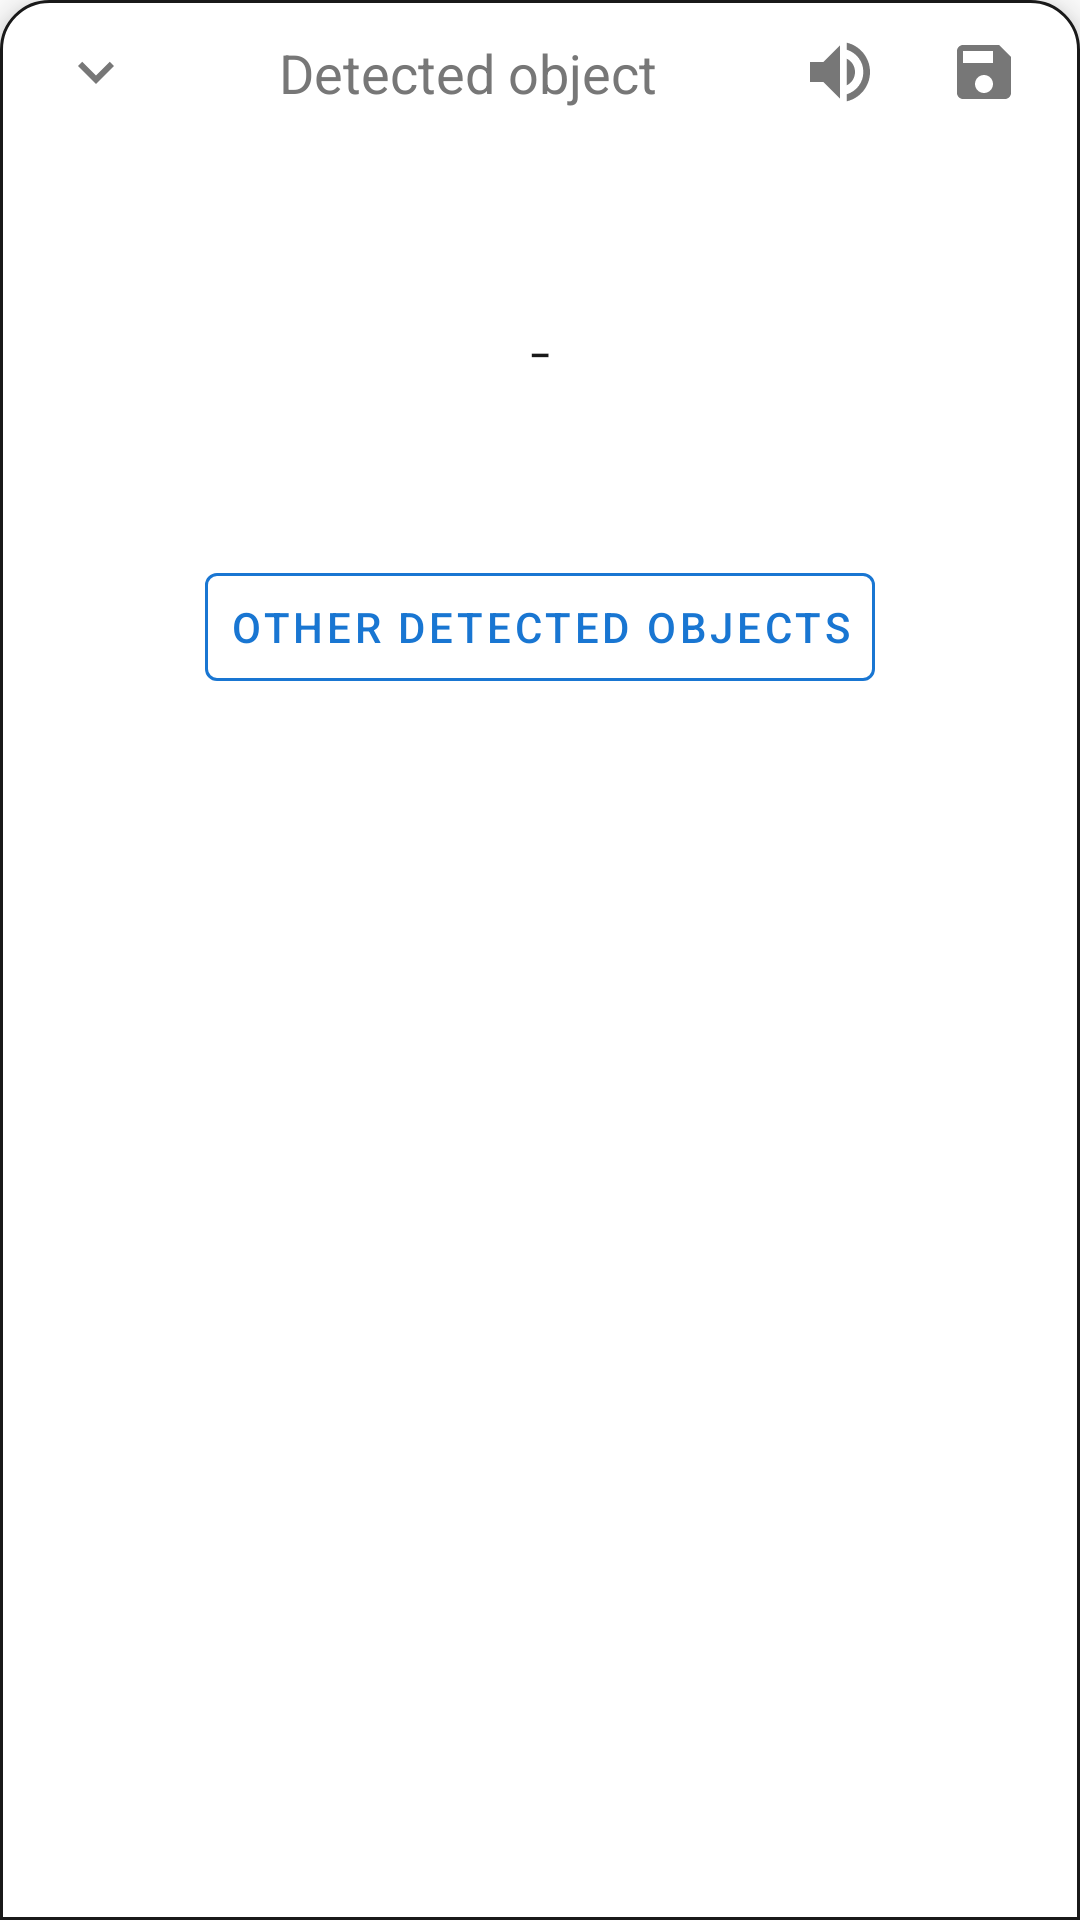

Screen size 1080×1920. Icon name, then its box in pixels as box=[x1, y1, x2, y2]:
Play/pause this word: box=[810, 43, 870, 101]
Save new word: box=[957, 45, 1011, 99]
